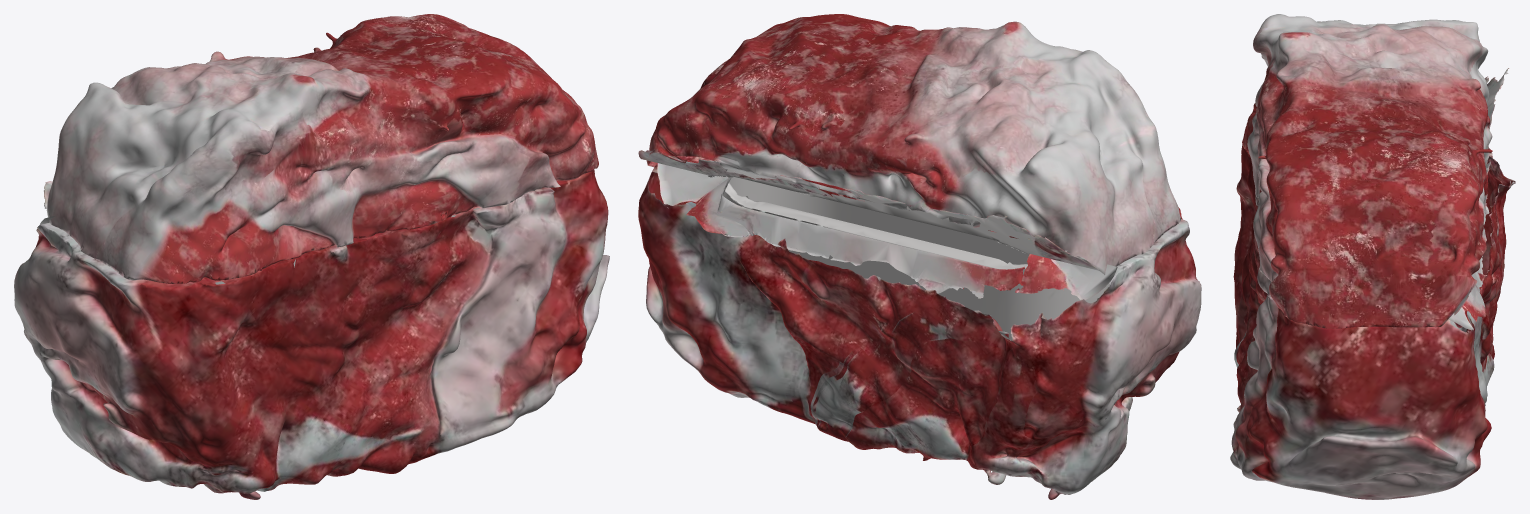
File: steakpods.glb
3 renders of one model, left to right at view 1: azimuth 30°, elevation 25°; view 2: azimuth 150°, elevation 25°; view 3: azimuth 270°, elevation 25°, orthographic. The views are drawn at different scales.
Parts seen in each view (by area): view 1: AirPods shell bottom_AirPods shell bottom-1_n3d, AirPods shell bottom_AirPods shell bottom-0_n3d; view 2: AirPods shell bottom_AirPods shell bottom-1_n3d, AirPods shell bottom_AirPods shell bottom-0_n3d, AirPods shell top 2_AirPods shell top 2-0_n3d; view 3: AirPods shell bottom_AirPods shell bottom-0_n3d, AirPods shell bottom_AirPods shell bottom-1_n3d, AirPods shell top 2_AirPods shell top 2-0_n3d.
Part boxes in pixels (x1,y1,x2,y2): AirPods shell bottom_AirPods shell bottom-1_n3d: (14,169,609,499); AirPods shell bottom_AirPods shell bottom-0_n3d: (44,14,598,283); AirPods shell bottom_AirPods shell bottom-1_n3d: (638,156,1201,499); AirPods shell bottom_AirPods shell bottom-0_n3d: (638,14,1181,274); AirPods shell top 2_AirPods shell top 2-0_n3d: (657,163,1117,300); AirPods shell bottom_AirPods shell bottom-0_n3d: (1242,14,1509,328); AirPods shell bottom_AirPods shell bottom-1_n3d: (1230,141,1515,499); AirPods shell top 2_AirPods shell top 2-0_n3d: (1449,206,1489,330).
Bounding box in the file's own units: 0.8228 × 0.6052 × 0.4069.
Materials: 2 (2 with a texture image).
